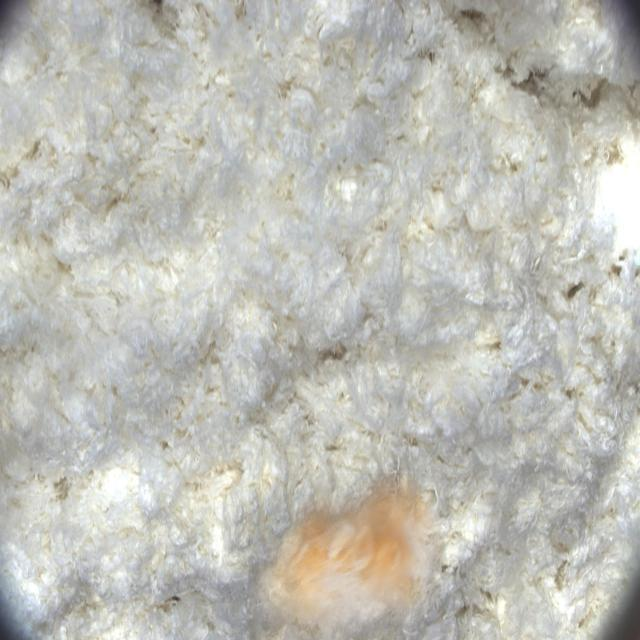dust: (249, 473, 442, 640)
